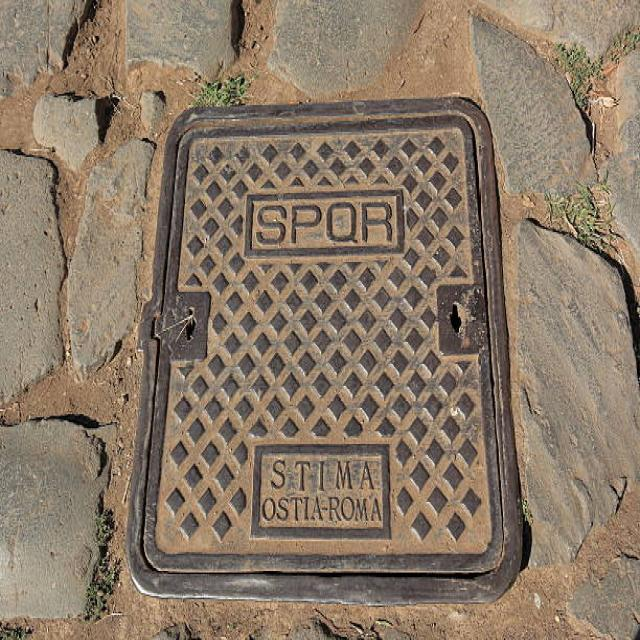Good: (121, 86, 527, 612)
